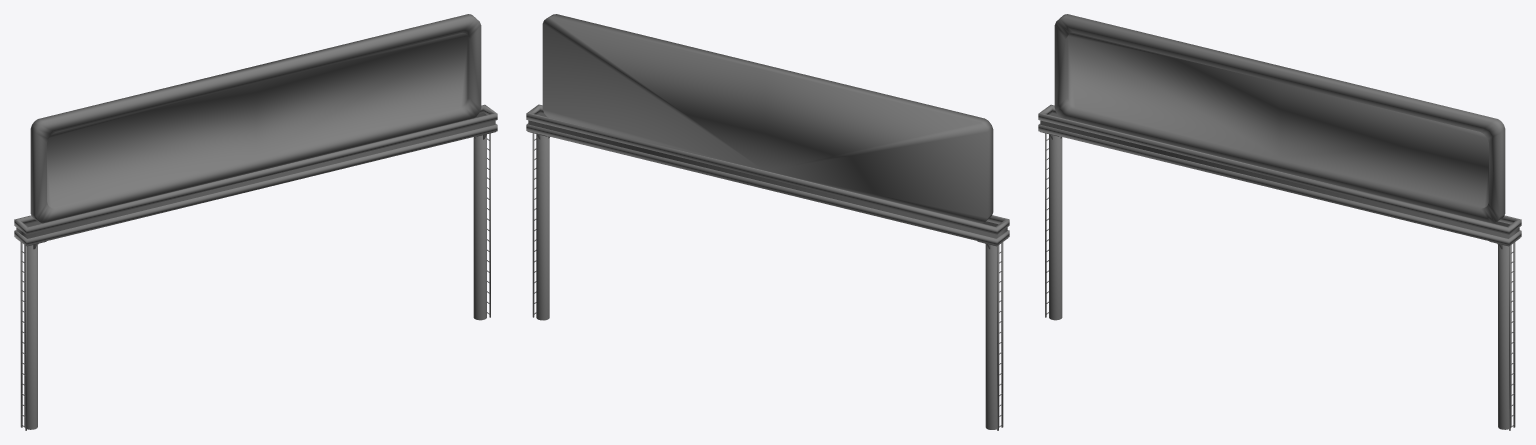
Rendered from Model_Middleground_Object_01.FBX.
The picture shows the model from 3 angles, left to right: view 1: azimuth 30°, elevation 25°; view 2: azimuth 150°, elevation 25°; view 3: azimuth 330°, elevation 25°; orthographic projection.
Parts seen in each view (by area): view 1: Box28; view 2: Box28; view 3: Box28.
Boxes of the visible parts, x1,y1,x2,y2 form: Box28: [14, 14, 497, 430]; Box28: [526, 14, 1009, 430]; Box28: [1038, 14, 1521, 430].
Bounding box in the file's own units: 1577 × 972 × 72.61.
